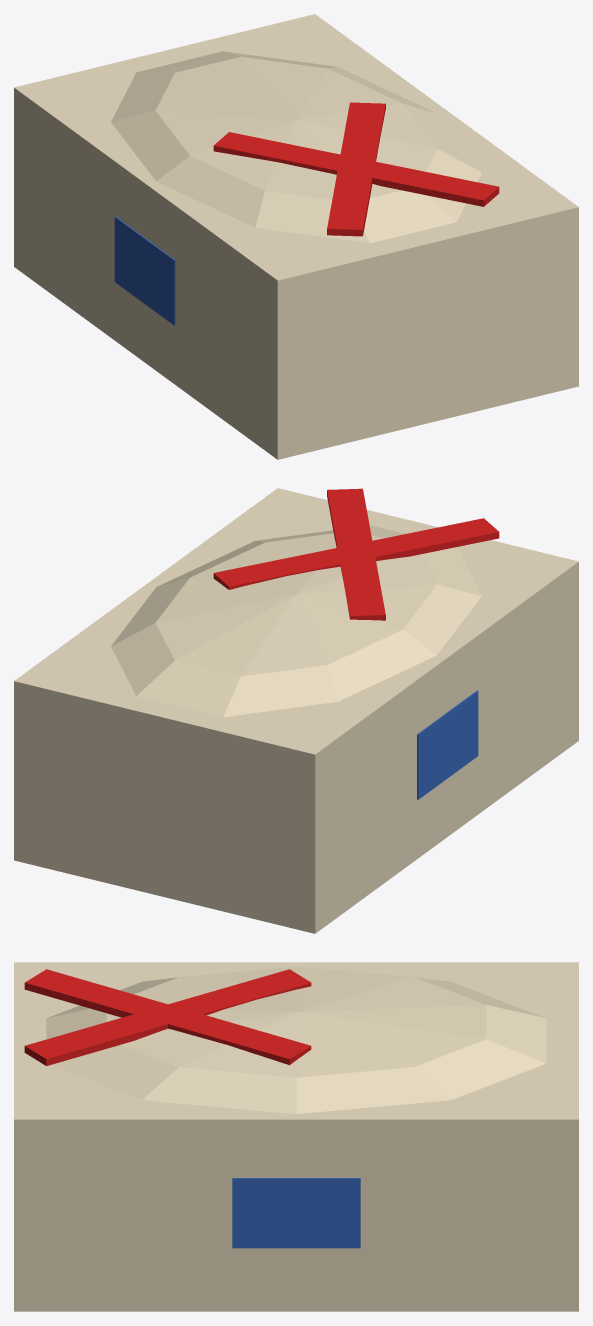
Rendered from pepper_sack.glb.
3 views of the same model, one above another, from view 1: azimuth 30°, elevation 25°; view 2: azimuth 150°, elevation 25°; view 3: azimuth 270°, elevation 25° (orthographic). The views are drawn at different scales.
Visible parts, largest first — view 1: sack_sack_paper (×2), cross_sack_cross (×2), band_sack_band; view 2: sack_sack_paper (×2), cross_sack_cross (×2), band_sack_band; view 3: sack_sack_paper (×2), cross_sack_cross (×2), band_sack_band.
Boxes of the visible parts, x1=… form: sack_sack_paper (×2): x1=14, y1=14, x2=578, y2=459; cross_sack_cross (×2): x1=213, y1=102, x2=499, y2=236; band_sack_band: x1=114, y1=216, x2=175, y2=325; sack_sack_paper (×2): x1=14, y1=488, x2=578, y2=933; cross_sack_cross (×2): x1=213, y1=488, x2=499, y2=620; band_sack_band: x1=417, y1=690, x2=478, y2=799; sack_sack_paper (×2): x1=14, y1=962, x2=578, y2=1311; cross_sack_cross (×2): x1=24, y1=969, x2=311, y2=1065; band_sack_band: x1=232, y1=1178, x2=360, y2=1248.
Size of the model in its own units: 0.585 by 0.38 by 0.88.
